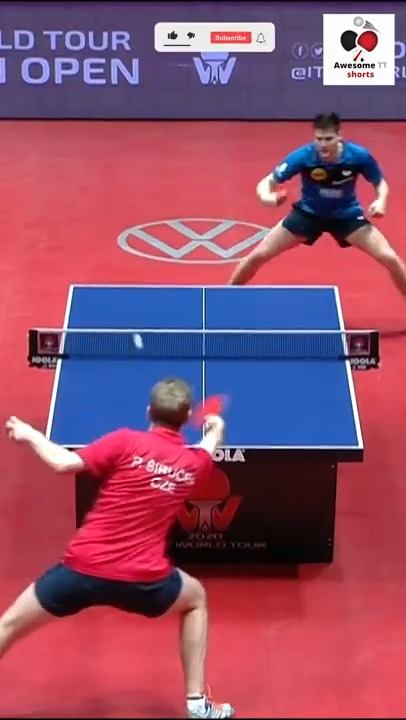Ball: (132, 332, 144, 349)
